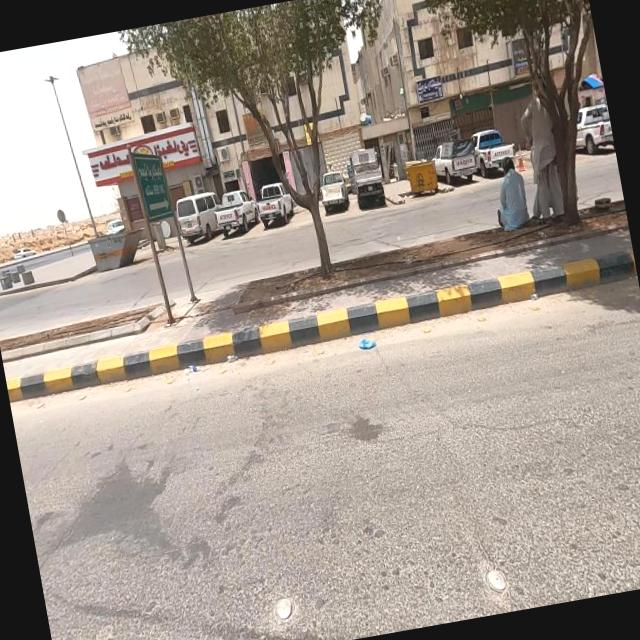debris: (211, 78, 298, 168), (332, 307, 407, 381)
